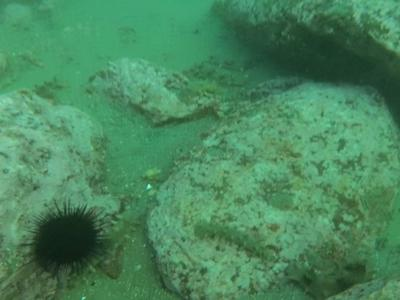holothurian: (195, 217, 269, 260)
urchin: (16, 196, 117, 281)
